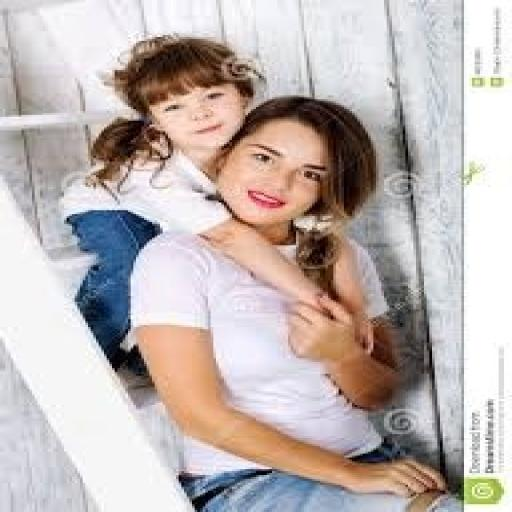hugging: (123, 93, 461, 510), (56, 31, 392, 391)
